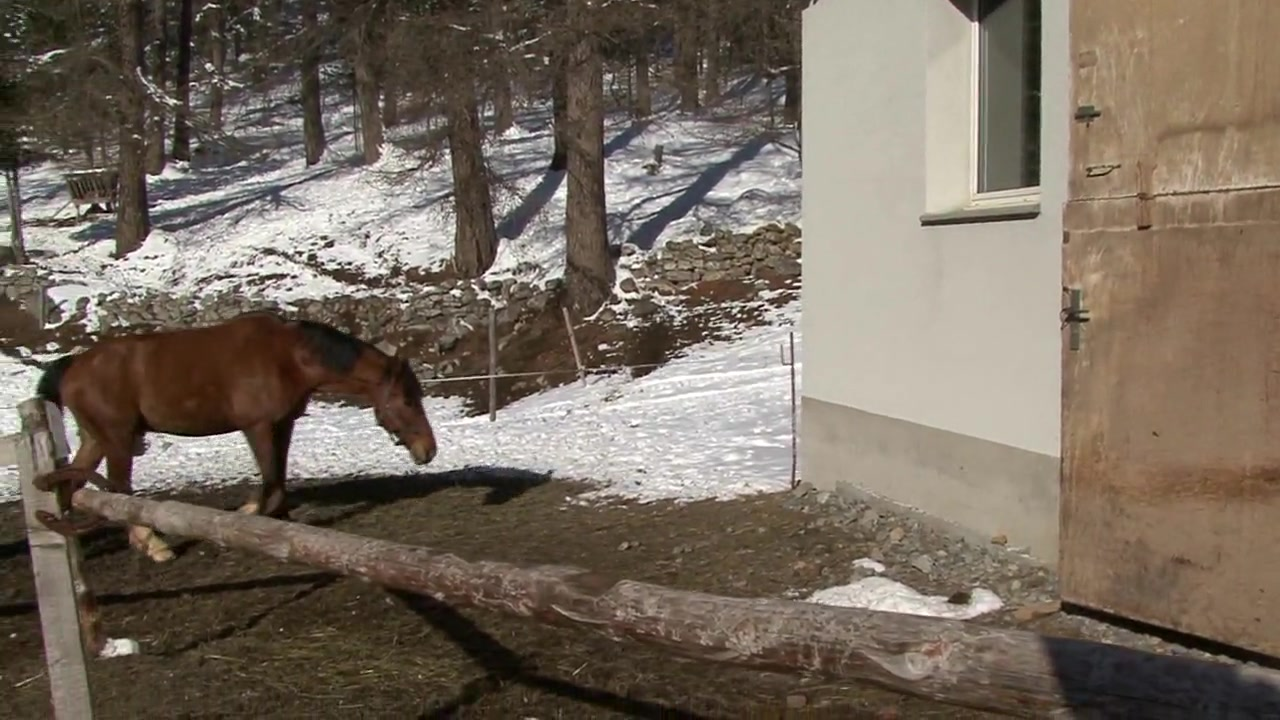horse: (37, 312, 439, 561)
